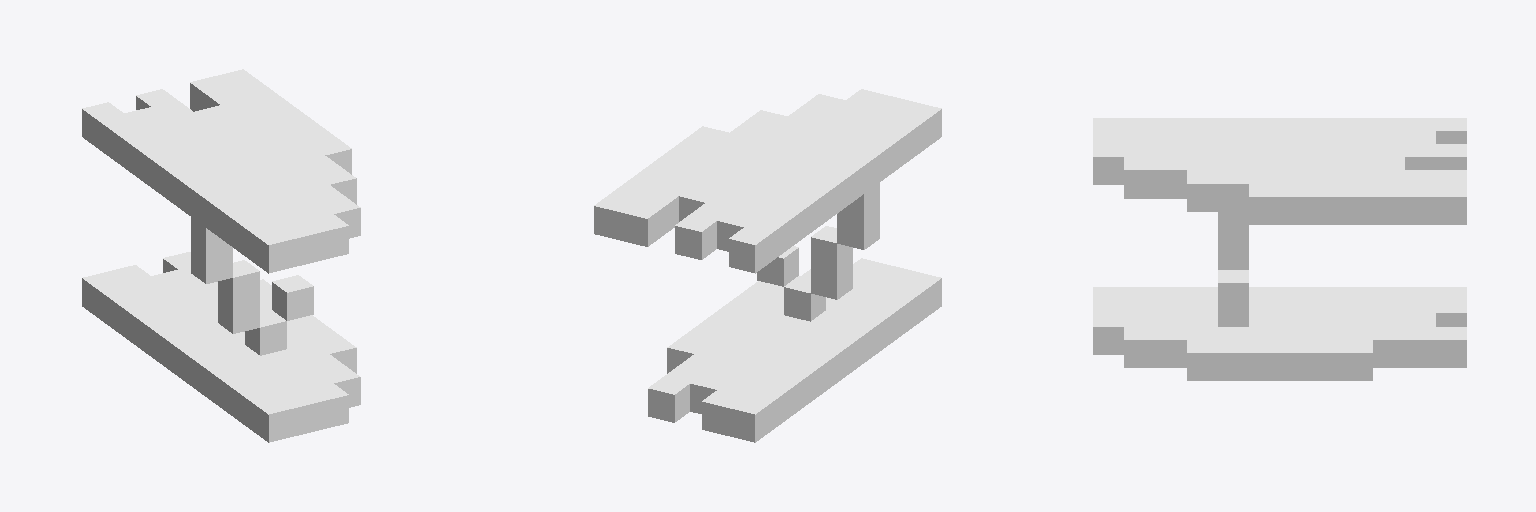
The model's file is AirplaneBodyBroken1.obj.
3 renders of one model, left to right at view 1: azimuth 30°, elevation 25°; view 2: azimuth 150°, elevation 25°; view 3: azimuth 270°, elevation 25°, orthographic.
Parts seen in each view (by area): view 1: object 1; view 2: object 1; view 3: object 1.
Boxes of the visible parts, <box> form: object 1: <box>82,69,360,442</box>; object 1: <box>594,89,941,442</box>; object 1: <box>1093,118,1466,380</box>.
Bounding box in the file's own units: 0.6 × 0.7 × 1.2.